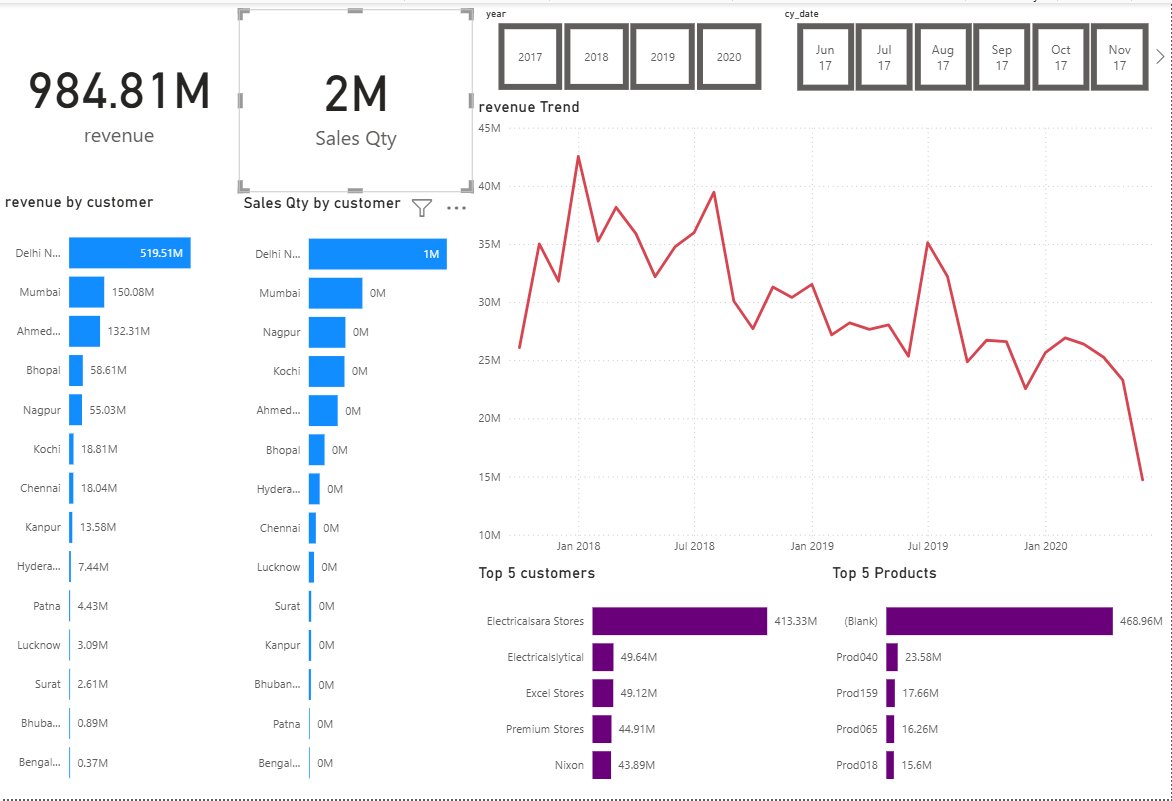

Layout of this report page (visuals, bound fields, positions):
{"tool":"powerbi","page":{"name":"Page 1","canvas":[1250,850],"ordinal":0},"visuals":[{"type":"card","fields":{"Values":["Basemeasures.revenue"]},"box":[0,0,254.6,201],"z":0},{"type":"card","fields":{"Values":["Basemeasures.Sales Qty"]},"box":[254.6,6.7,250.6,194.3],"z":1},{"type":"barChart","title":"revenue by customer","fields":{"Y":["Basemeasures.revenue"],"Category":["sales markets.markets_name"]},"box":[0,201,254.6,648.6],"z":2},{"type":"barChart","title":"Sales Qty by customer","fields":{"Y":["Basemeasures.Sales Qty"],"Category":["sales markets.markets_name"]},"box":[254.6,201,250.6,648.6],"z":3},{"type":"slicer","fields":{"Values":["sales date.year"]},"box":[505.9,0,331,100.1],"z":4},{"type":"slicer","fields":{"Values":["sales date.cy_date"]},"box":[825,0,425.3,100.6],"z":5},{"type":"barChart","title":"Top 5 customers","fields":{"Y":["Basemeasures.revenue"],"Category":["sales customers.custmer_name"]},"box":[505.9,598,377.7,252.3],"z":6},{"type":"barChart","title":"Top 5 Products","fields":{"Y":["Basemeasures.revenue"],"Category":["sales products.product_code"]},"box":[883.6,598,365.7,252.3],"z":7},{"type":"lineChart","title":"revenue Trend","fields":{"Y":["Basemeasures.revenue"],"Category":["sales date.cy_date"]},"box":[505.9,100.1,743.5,497.9],"z":8}]}

Visuals, with their boxes in screenshot pixels (x1, y1, x2, y2), scaled from the page's 1250x850 canvas onto the 1172x801 screenshot:
card - Basemeasures.revenue: 0 0 239 189
card - Basemeasures.Sales Qty: 239 6 474 189
"revenue by customer" barChart: 0 189 239 800
"Sales Qty by customer" barChart: 239 189 474 800
slicer - sales date.year: 474 0 785 94
slicer - sales date.cy_date: 774 0 1171 95
"Top 5 customers" barChart: 474 564 828 800
"Top 5 Products" barChart: 828 564 1171 800
"revenue Trend" lineChart: 474 94 1171 564
